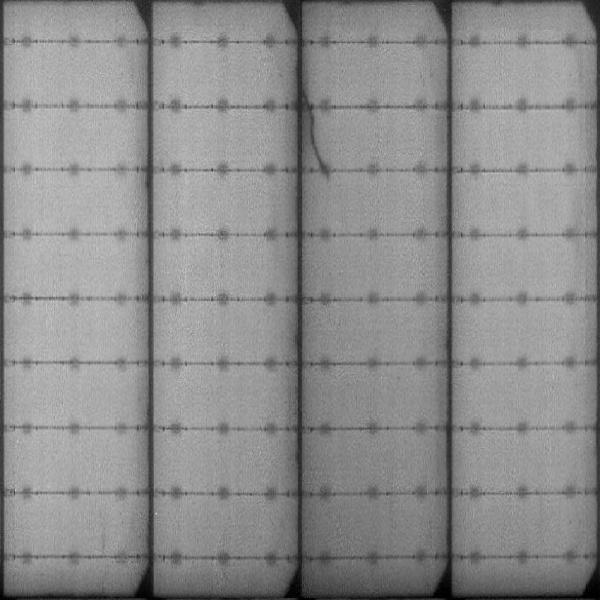scratch: (304, 92, 330, 185)
